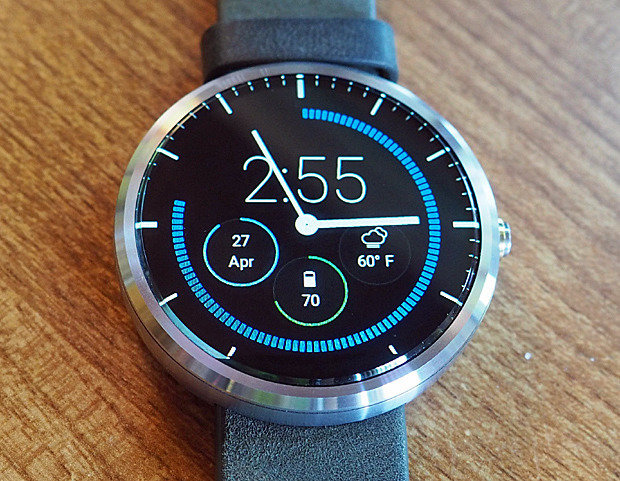clock: (112, 62, 501, 426)
